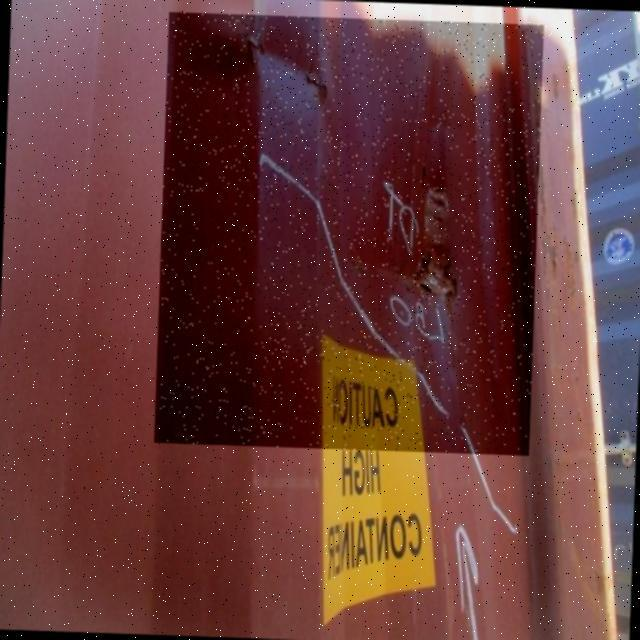Dent: (154, 12, 544, 456)
